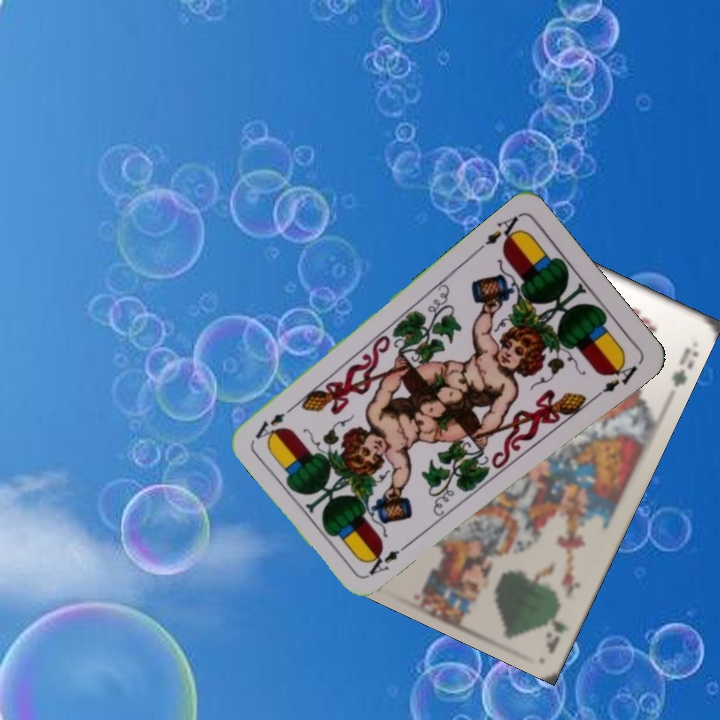EA: (473, 210, 525, 254), (365, 537, 415, 578)
GK: (541, 594, 572, 656)
